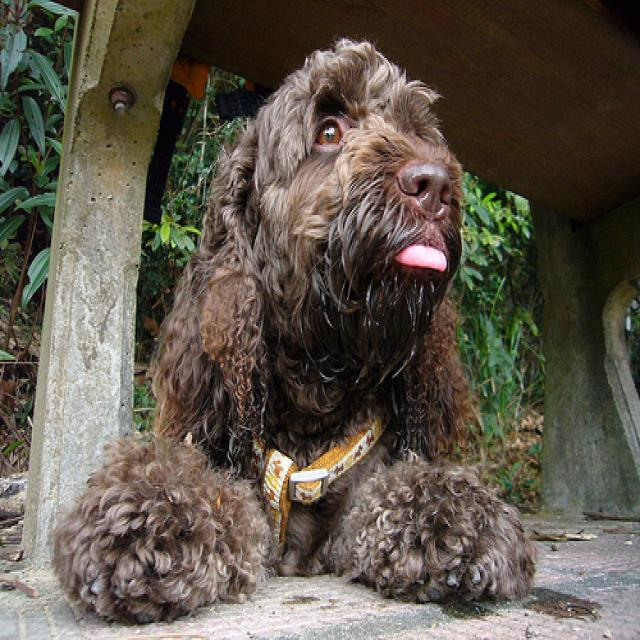dog-english_cocker_spaniel: (47, 29, 535, 626)
